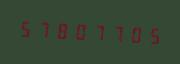eight: (53, 18, 70, 42)
five: (17, 16, 34, 41), (143, 22, 160, 47)
seven: (35, 17, 52, 42), (89, 19, 106, 44), (107, 20, 124, 45)
zero: (125, 21, 142, 46), (71, 19, 88, 43)
